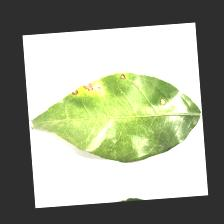canker: (64, 56, 131, 102)
